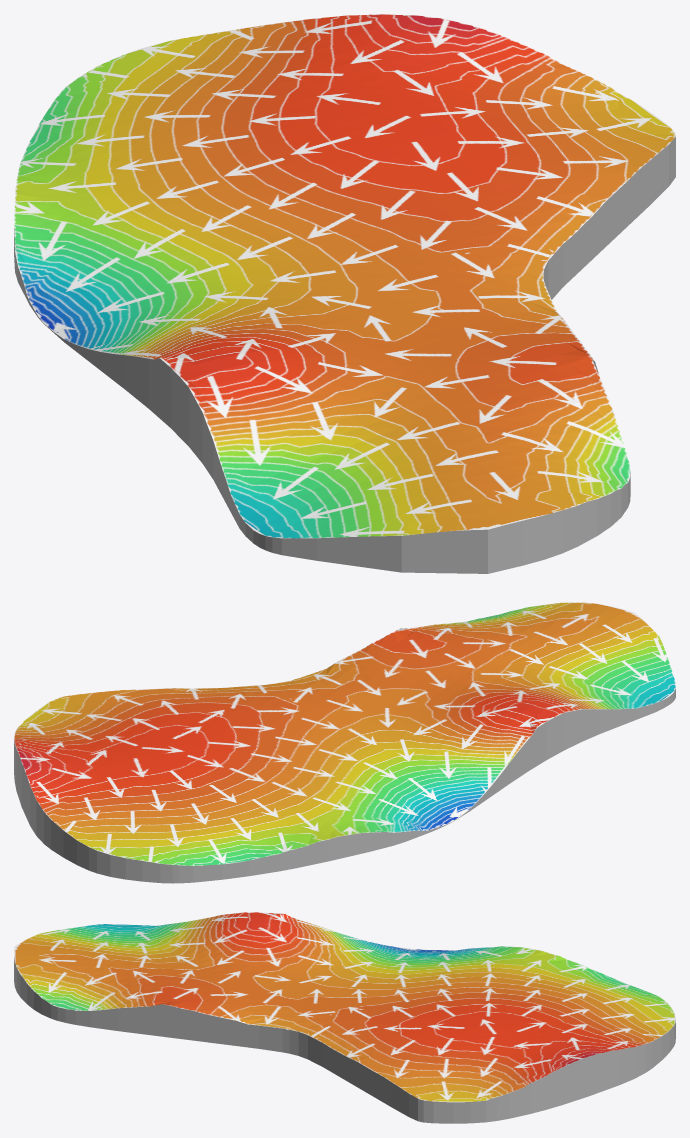
3 renders of one model, top to bottom at view 1: azimuth 30°, elevation 25°; view 2: azimuth 150°, elevation 25°; view 3: azimuth 270°, elevation 25°, orthographic. The views are drawn at different scales.
Bounding box in the file's own units: 5.26 × 0.5111 × 7.67.
Materials: 2 (1 with a texture image).
